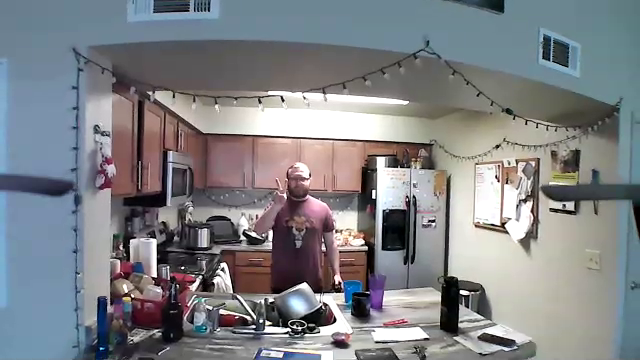peace: (272, 175, 292, 209)
